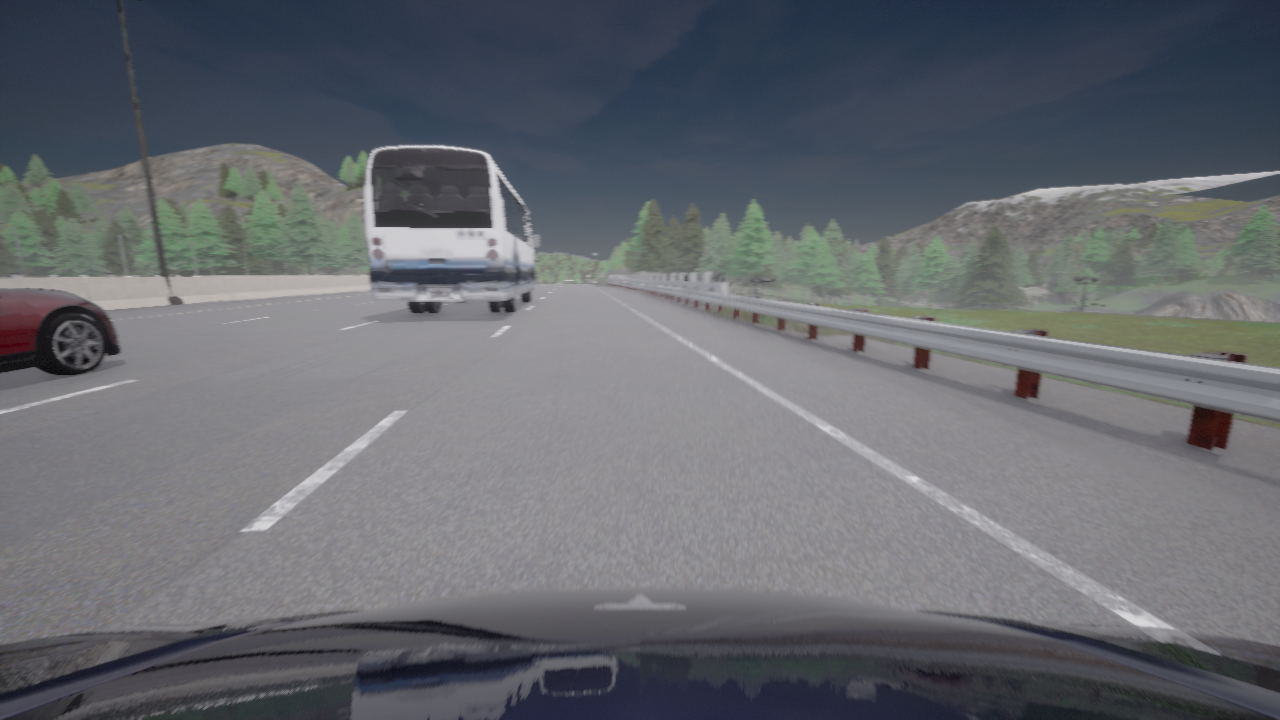cyclist: (0, 588, 1279, 719), (365, 145, 539, 313), (0, 288, 119, 375)
